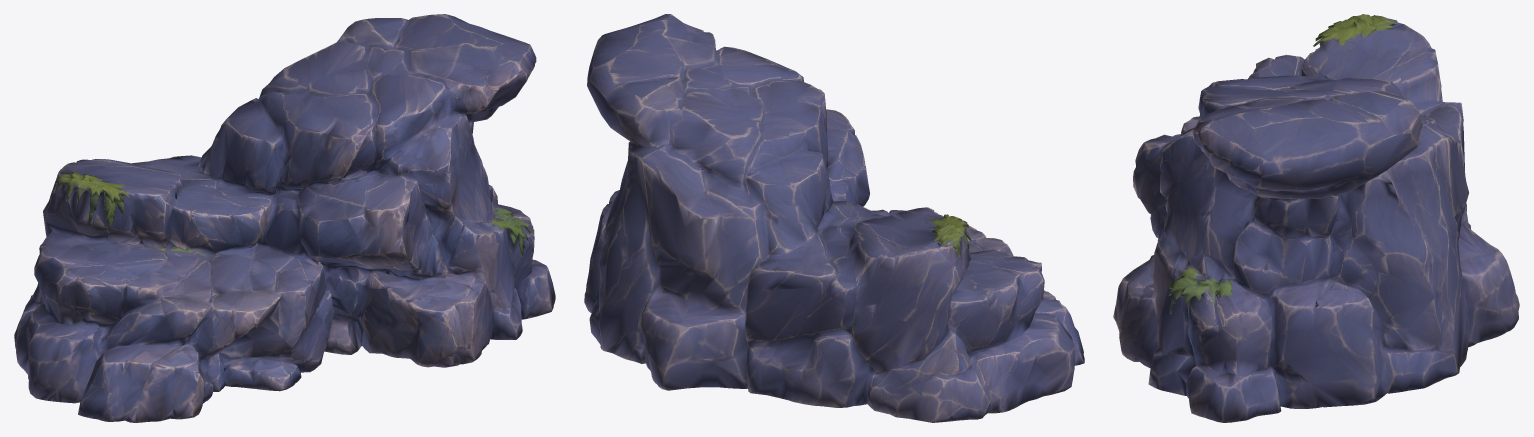
Rendered from crash-cavern-rock.glb.
3 views of the same model, side by side, from view 1: azimuth 30°, elevation 25°; view 2: azimuth 150°, elevation 25°; view 3: azimuth 270°, elevation 25° (orthographic). The views are drawn at different scales.
Parts seen in each view (by area): view 1: crash-cavern-rock_LOD0; view 2: crash-cavern-rock_LOD0; view 3: crash-cavern-rock_LOD0.
Boxes of the visible parts, left/top/right/bottom form: crash-cavern-rock_LOD0: left=14, top=14, right=555, bottom=422; crash-cavern-rock_LOD0: left=584, top=14, right=1084, bottom=422; crash-cavern-rock_LOD0: left=1113, top=14, right=1519, bottom=422.
Size of what is drawn, in the model's own units: 1.9 by 0.9433 by 1.24.
1 material, 1 textured.
